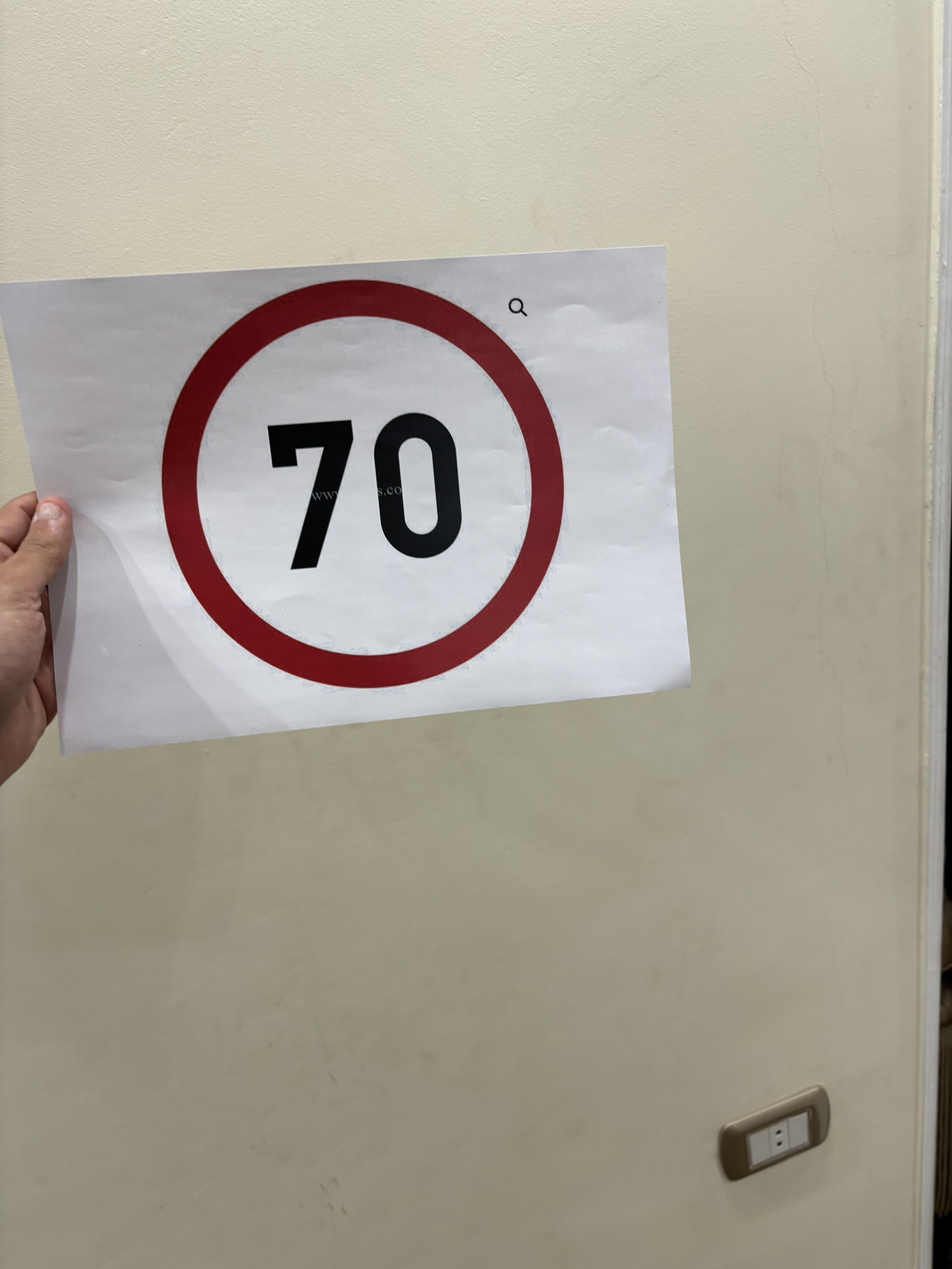70-Speed: (155, 276, 574, 694)
